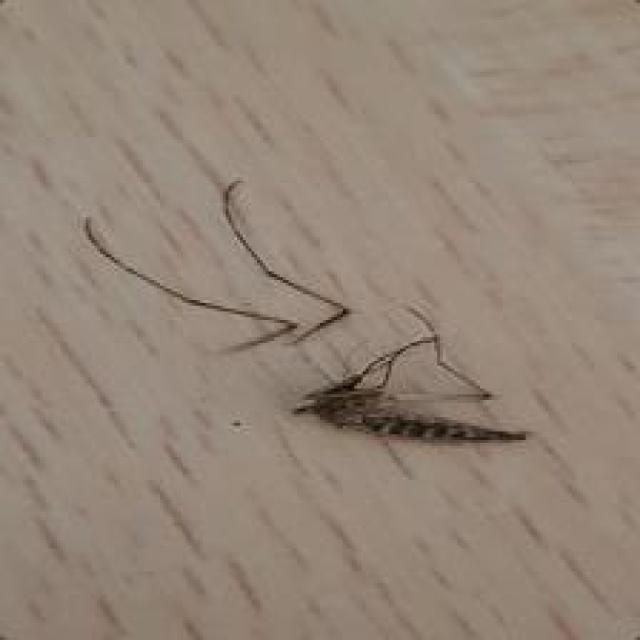Culex: (83, 176, 531, 453)
